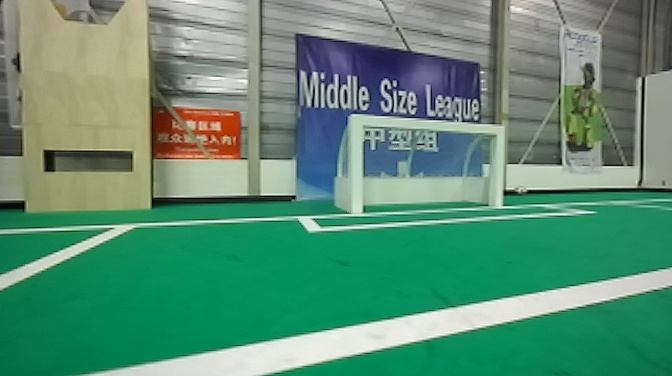goalpost: (482, 119, 513, 219), (341, 108, 366, 218)
